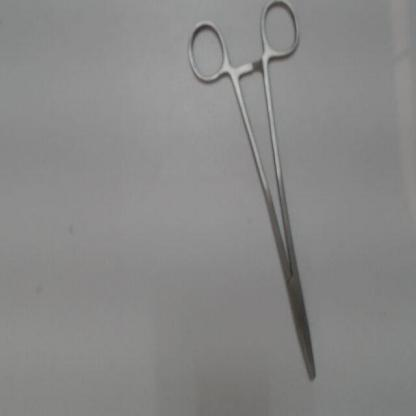8 Mayo Needle Holder: (180, 2, 322, 390)
